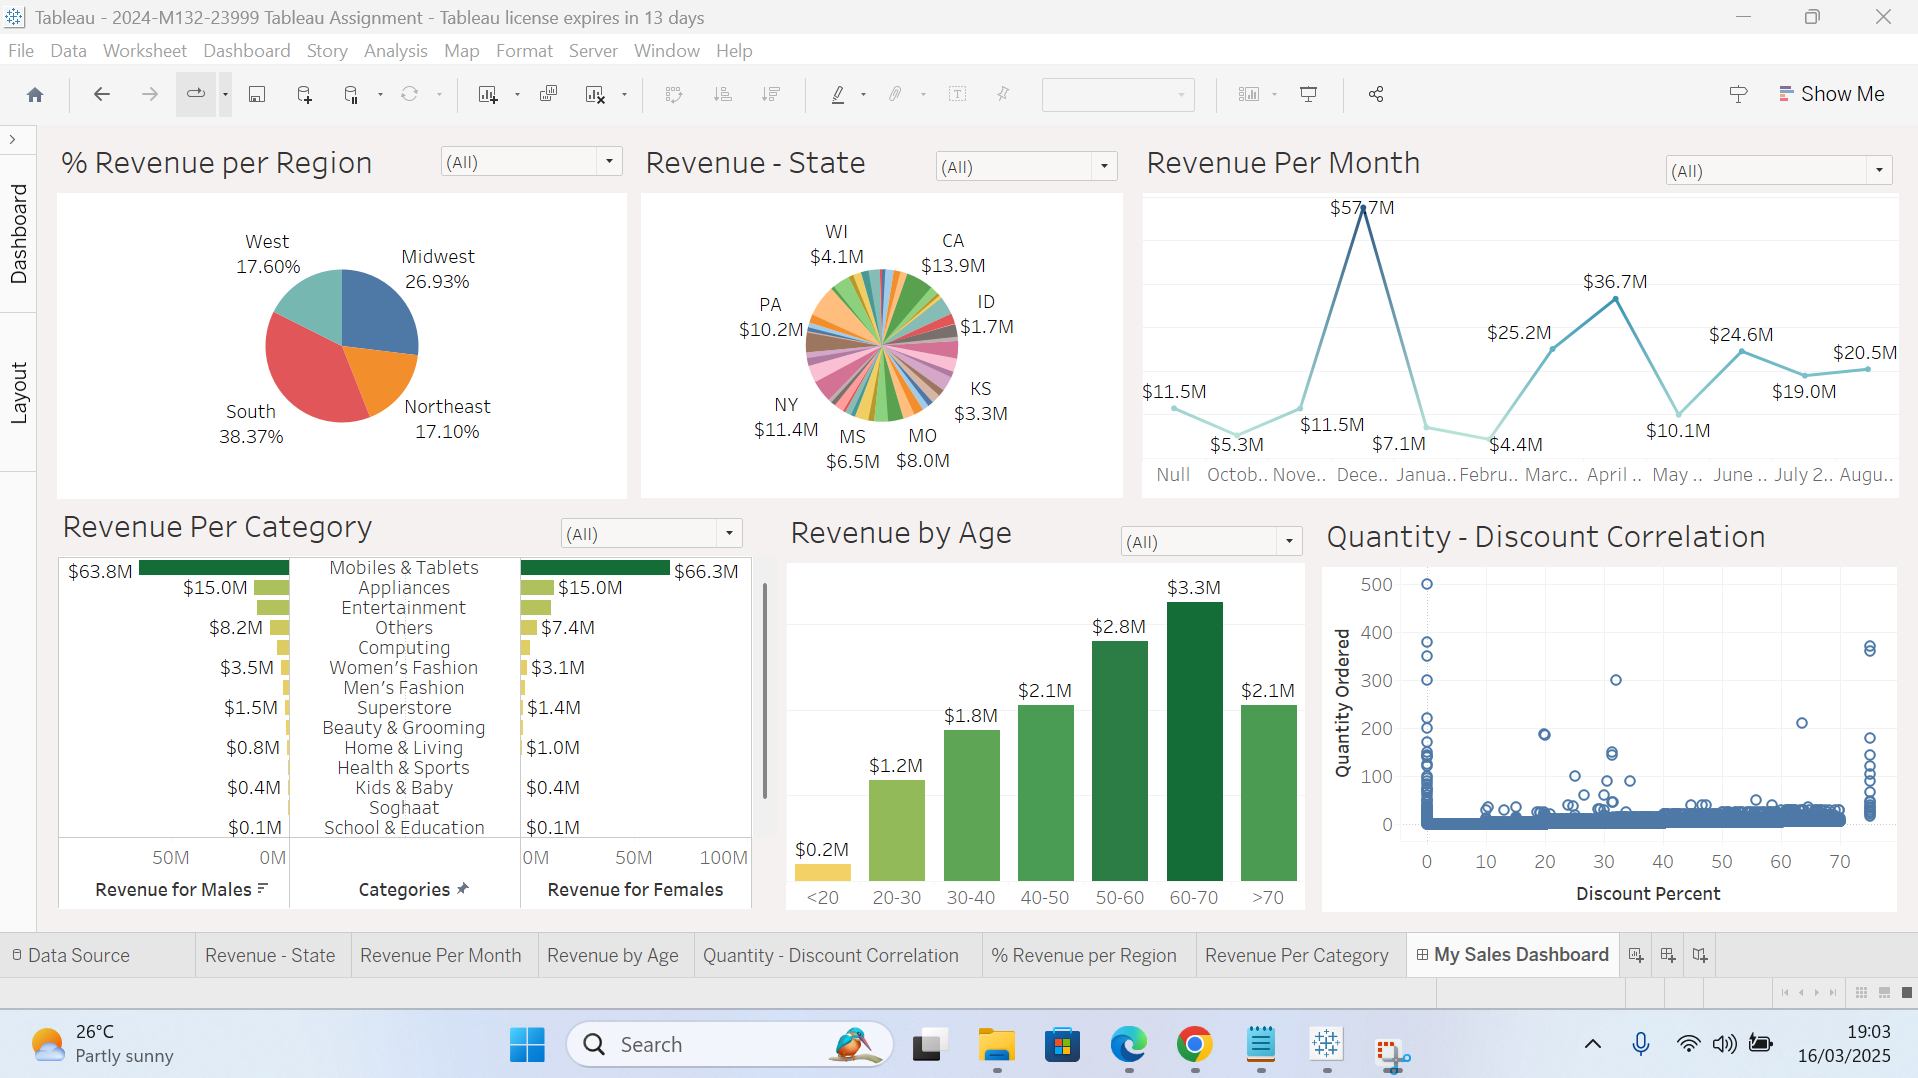

The page's visual inventory and layout, read from the dashboard file:
{"tool":"tableau","page":{"name":"My Sales Dashboard","canvas":[1000,1000],"units":"permille","ordinal":0},"visuals":[{"type":"worksheet","title":"% Revenue per Region","mark":"Pie","rows":["Calculation_998954750056755203","Calculation_998954750056755203"],"box":[10.6,13.7,303,450.4]},{"type":"worksheet","title":"Revenue Per State","mark":"Pie","box":[321.1,13.7,256.2,449.1]},{"type":"worksheet","title":"Revenue Per Month","mark":"Automatic","rows":["total"],"cols":["month"],"box":[587.3,13.7,402.1,449.1]},{"type":"filter","title":"Revenue by Age","param":"[federated.17vzoqb0uy6kks19izl8n02ihrt0].[none:Age (bin):ok]","box":[576.5,452.9,99.4,83.1]},{"type":"filter","title":"Revenue Per Category","param":"[federated.17vzoqb0uy6kks19izl8n02ihrt0].[none:category:nk]","box":[294.4,457.8,99.9,75.7]},{"type":"worksheet","title":"Quantity Vs Discount Correlation","mark":"Automatic","rows":["qty_ordered"],"cols":["Discount_Percent"],"box":[682.8,470.2,305.5,503.7]},{"type":"worksheet","title":"Revenue by Age","mark":"Automatic","rows":["age"],"cols":["Age (bin)"],"box":[397.8,472.7,276.2,501.2]},{"type":"worksheet","title":"Revenue Per Category","mark":"Automatic","rows":["category"],"cols":["Calculation_998954750002372609","Calculation_998954750003204098","Calculation_998954750001659904"],"box":[11.2,473.9,382,498.8]}]}

Visuals, with their boxes on the dashboard's canvas, which has no fixed pixel size, in thousandths of its width and height (x1, y1, x2, y2). These are canvas units, not pixel positions in the 1918x1078 screenshot, which may show the page scaled, cropped or inside an application window:
"% Revenue per Region" worksheet (Pie marks): detection(11, 14, 314, 464)
"Revenue Per State" worksheet (Pie marks): detection(321, 14, 577, 463)
"Revenue Per Month" worksheet: detection(587, 14, 989, 463)
"Revenue by Age" filter: detection(576, 453, 676, 536)
"Revenue Per Category" filter: detection(294, 458, 394, 534)
"Quantity Vs Discount Correlation" worksheet: detection(683, 470, 988, 974)
"Revenue by Age" worksheet: detection(398, 473, 674, 974)
"Revenue Per Category" worksheet: detection(11, 474, 393, 973)
